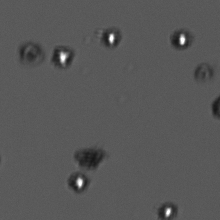Dead Cell: (75, 147, 105, 168), (19, 41, 44, 65), (194, 63, 213, 82)
Living Cell: (52, 44, 72, 69), (100, 27, 122, 49), (65, 172, 89, 192), (170, 28, 191, 49), (157, 202, 178, 218)
